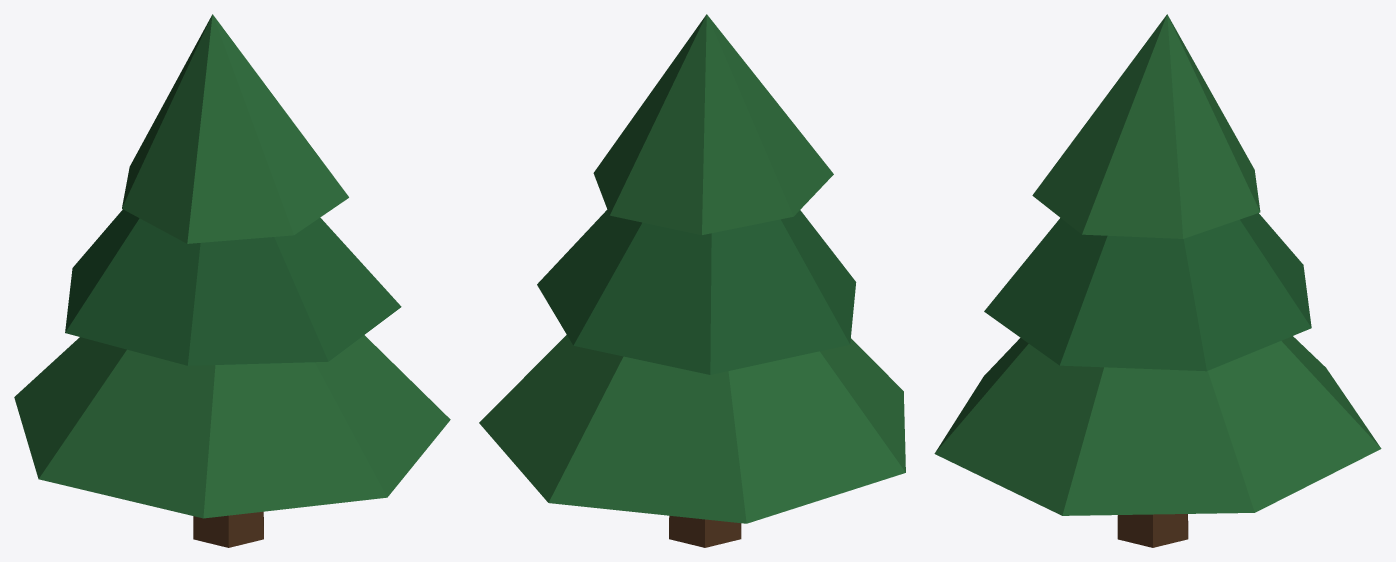
Rendered from Pine_B.glb.
The picture shows the model from 3 angles, left to right: view 1: azimuth 30°, elevation 25°; view 2: azimuth 150°, elevation 25°; view 3: azimuth 270°, elevation 25°; orthographic projection. The views are drawn at different scales.
Parts seen in each view (by area): view 1: Pine; view 2: Pine; view 3: Pine.
Boxes of the visible parts, <box> form: Pine: <box>14,14,450,547</box>; Pine: <box>479,14,905,547</box>; Pine: <box>934,14,1381,547</box>.
Size of the model in its own units: 0.5749 by 0.762 by 0.6025.
